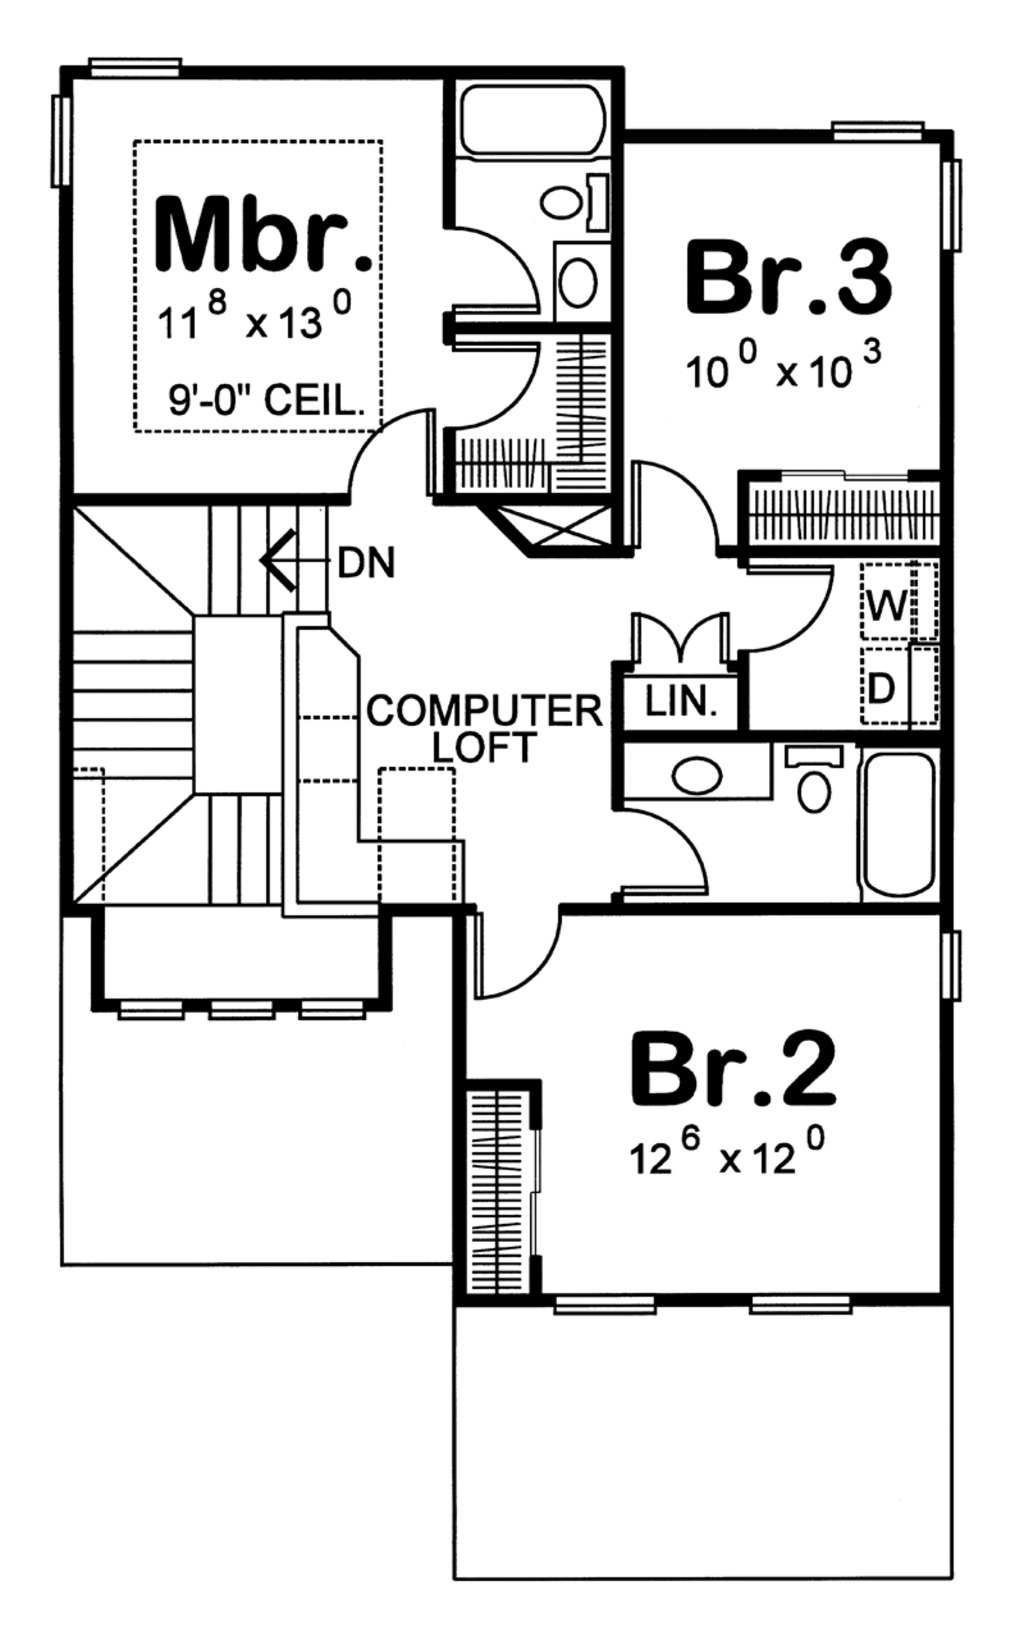door: (621, 456, 747, 562), (726, 550, 844, 662), (332, 394, 435, 500), (433, 216, 541, 314), (606, 809, 711, 902), (448, 336, 540, 434), (472, 904, 557, 1009), (621, 603, 735, 672)
large_sink: (530, 163, 621, 233), (777, 746, 847, 821)
small_sink: (621, 741, 769, 800), (550, 231, 618, 322)
stairs: (70, 487, 401, 1009)
tub: (855, 751, 947, 912), (453, 83, 616, 154)
window: (923, 144, 977, 259), (740, 1277, 858, 1329), (72, 46, 192, 92), (38, 85, 84, 197), (813, 112, 930, 151), (925, 917, 969, 1012), (543, 1294, 657, 1324)
